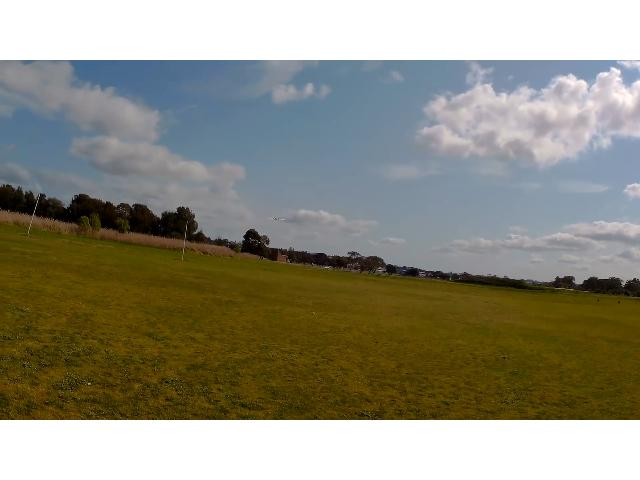Anti-Drone: (268, 218, 286, 220)
